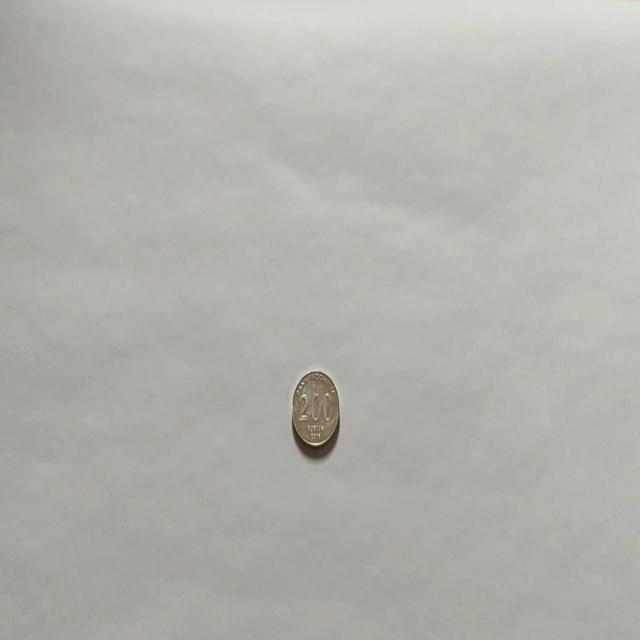dua ratus rupiah: (290, 368, 340, 450)
